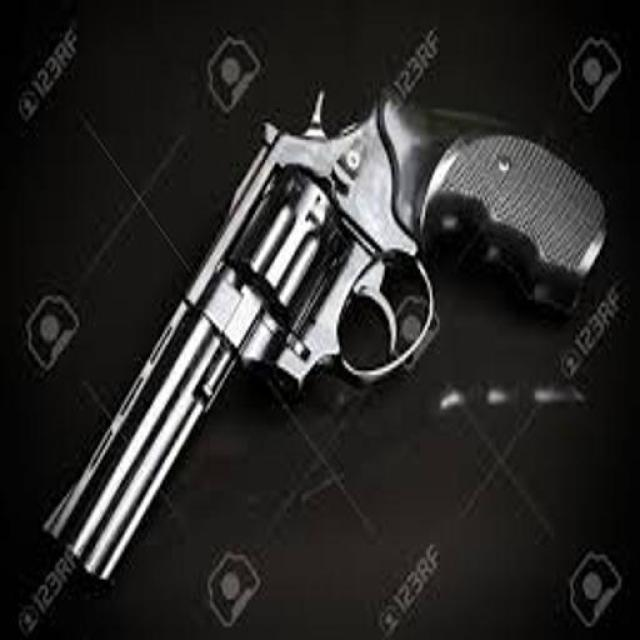pistol: (30, 77, 611, 595)
